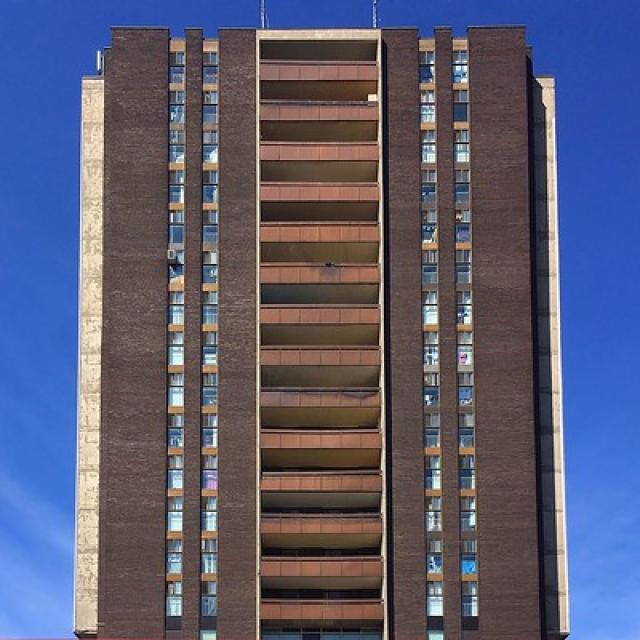building: (73, 16, 574, 640)
